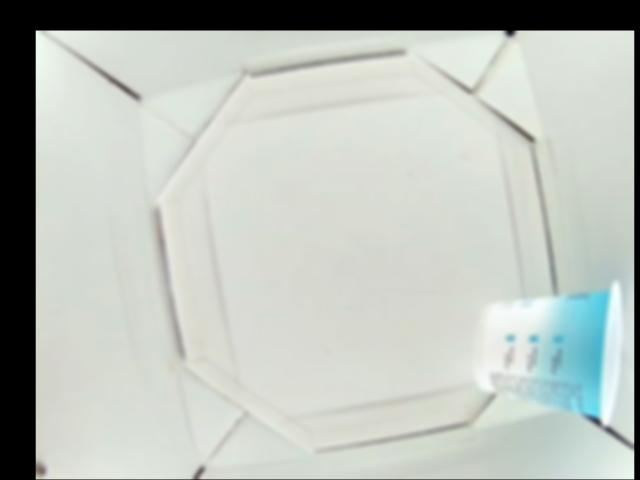Cup: (476, 281, 623, 428)
